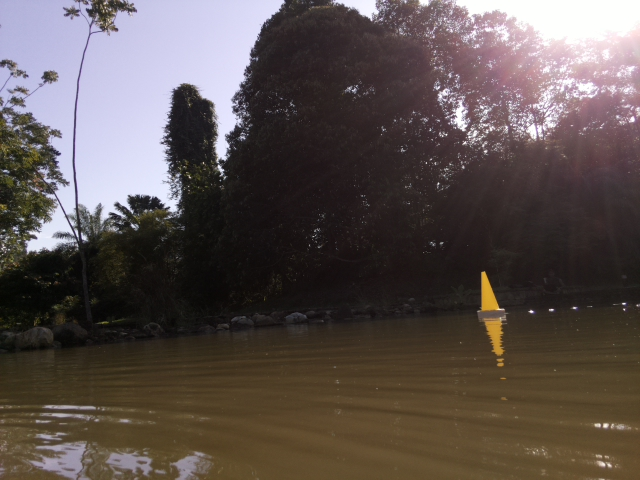checkpoint: (476, 268, 509, 319)
